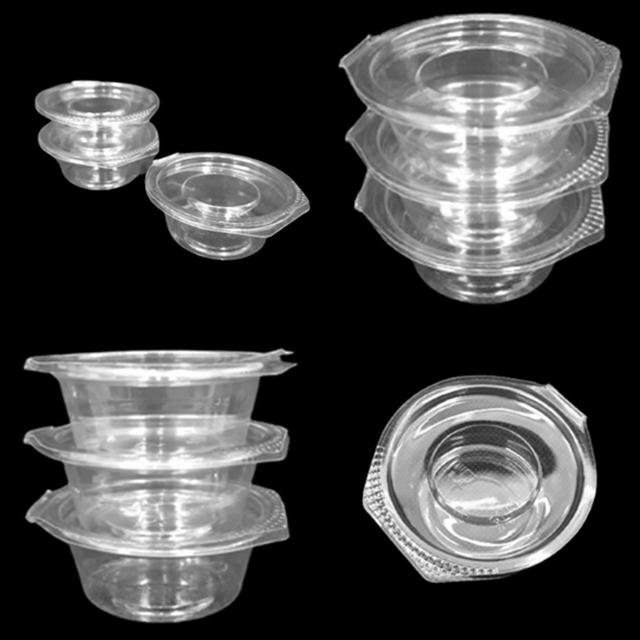Single-Use-Plastic: (341, 14, 621, 190), (364, 376, 596, 582), (26, 486, 289, 622), (355, 172, 605, 304), (25, 421, 289, 541), (26, 349, 295, 452), (146, 154, 309, 260), (40, 121, 159, 190), (35, 80, 160, 126)
